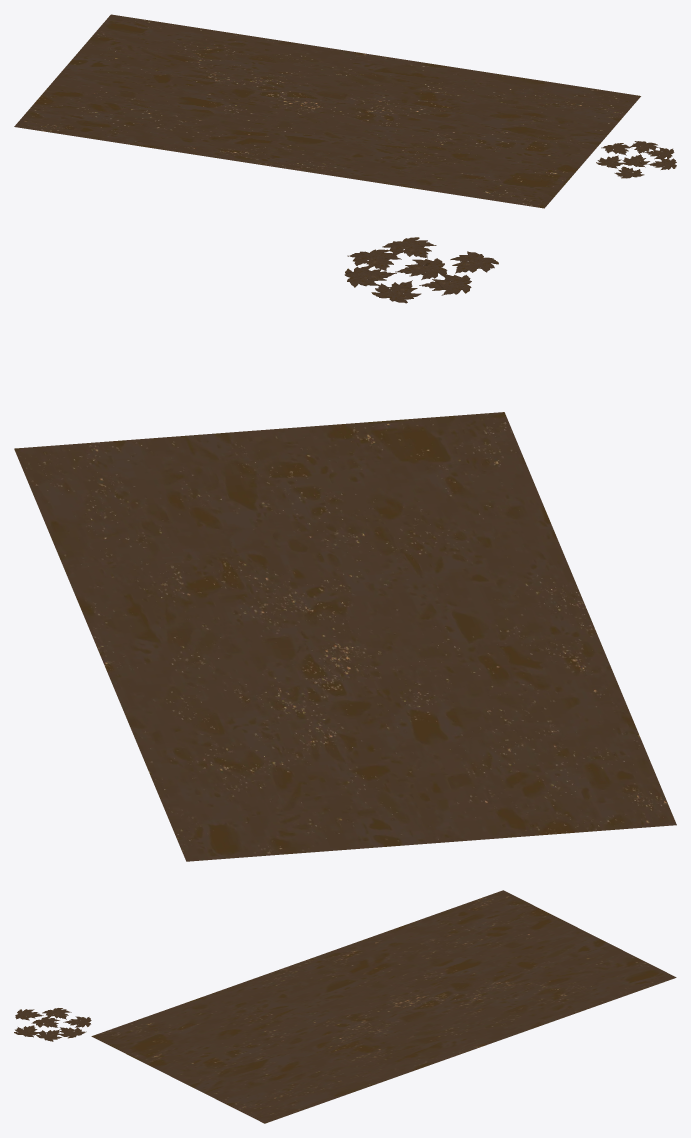
File: MultipleLeaf.glb
3 views of the same model, one above another, from view 1: azimuth 30°, elevation 25°; view 2: azimuth 150°, elevation 25°; view 3: azimuth 270°, elevation 25° (orthographic). The views are drawn at different scales.
Visible parts, largest first — view 1: Loft.007; view 2: Loft.007; view 3: Loft.007.
Part boxes in pixels (<box>): Loft.007: <box>14,14,676,208</box>; Loft.007: <box>14,237,676,861</box>; Loft.007: <box>14,890,676,1123</box>.
Size of the model in its own units: 2.62 by 0.2384 by 3.14.
Materials: 1 (1 with a texture image).
